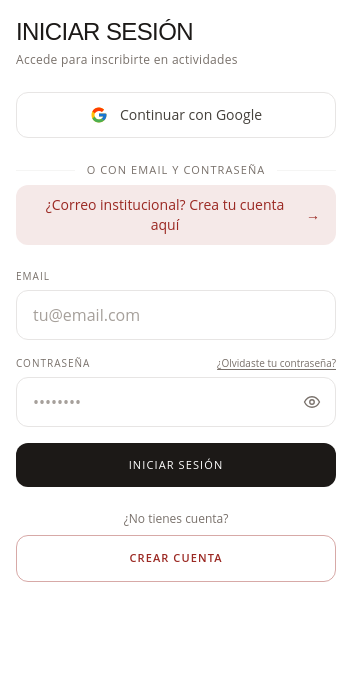
Scenario: AuthPage — cada error tiene salida › Google con un email que ya tiene contraseña: al login con su email, no a "crea tu cuenta"
The image size is (353, 679).
Click the button "Continuar con Google": (176, 115) [16,92,336,138]
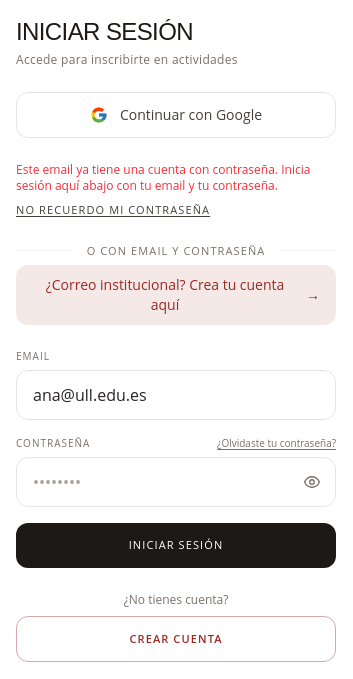
expect the text "Este email ya tiene una cuenta con contraseña" is shown: met, box [16,161,310,194]
expect the field with placeholder "tu@email.com" holds "ana@ull.edu.es": met, box [16,370,336,420]
Click the button "No recuerdo mi contraseña": (113, 210) [16,202,210,218]
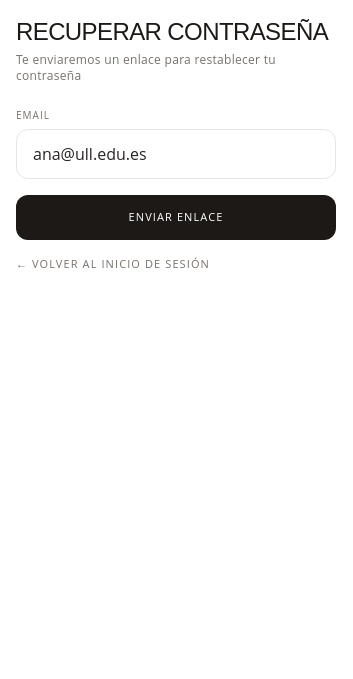
expect the heading "Recuperar contraseña" is shown: met, box [16,16,336,48]
